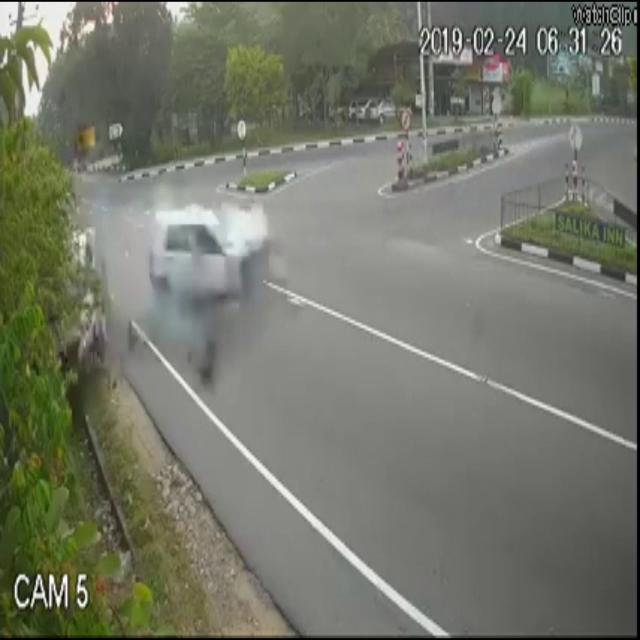accident: (138, 203, 279, 308)
